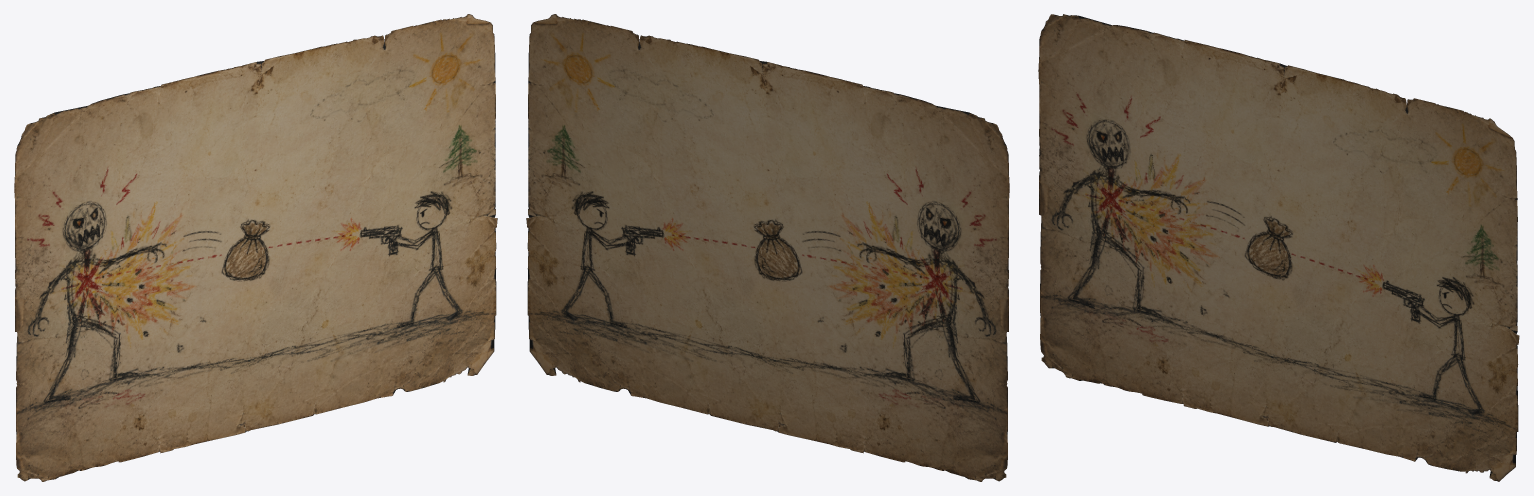
The model's file is Combat Hint 1.fbx.
The picture shows the model from 3 angles, left to right: view 1: azimuth 30°, elevation 25°; view 2: azimuth 150°, elevation 25°; view 3: azimuth 330°, elevation 25°; orthographic projection.
Visible parts, largest first — view 1: Plane; view 2: Plane; view 3: Plane.
Part boxes in pixels (x1=…): Plane: x1=14, y1=14, x2=497, y2=481; Plane: x1=526, y1=14, x2=1009, y2=481; Plane: x1=1038, y1=14, x2=1519, y2=481.
Bounding box in the file's own units: 271 × 198 × 8.65e-06.
Materials: 1 (1 with a texture image).
